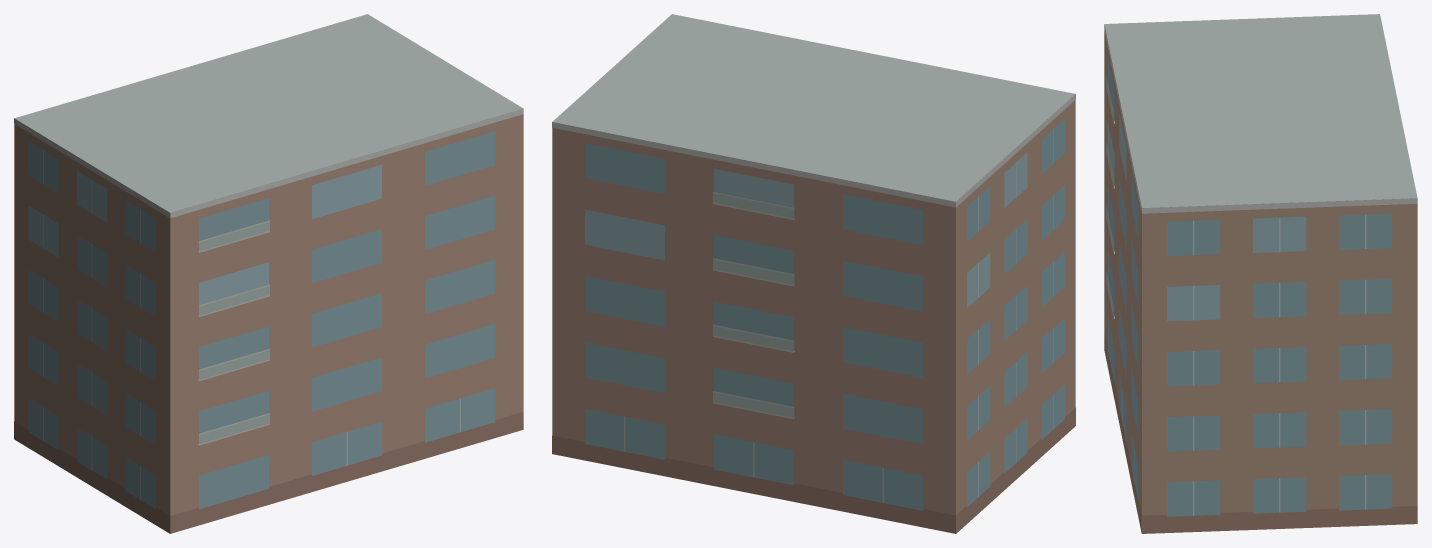
File: survey-upis-32967058.glb
The picture shows the model from 3 angles, left to right: view 1: azimuth 30°, elevation 25°; view 2: azimuth 150°, elevation 25°; view 3: azimuth 270°, elevation 25°; orthographic projection. The views are drawn at different scales.
Visible parts, largest first — view 1: survey-upis-32967058.tmp; view 2: survey-upis-32967058.tmp; view 3: survey-upis-32967058.tmp.
Boxes of the visible parts, x1,y1,x2,y2 form: survey-upis-32967058.tmp: (14,14,523,533); survey-upis-32967058.tmp: (552,14,1075,533); survey-upis-32967058.tmp: (1104,14,1417,533).
Bounding box in the file's own units: 18.16 × 14.2 × 12.39.
